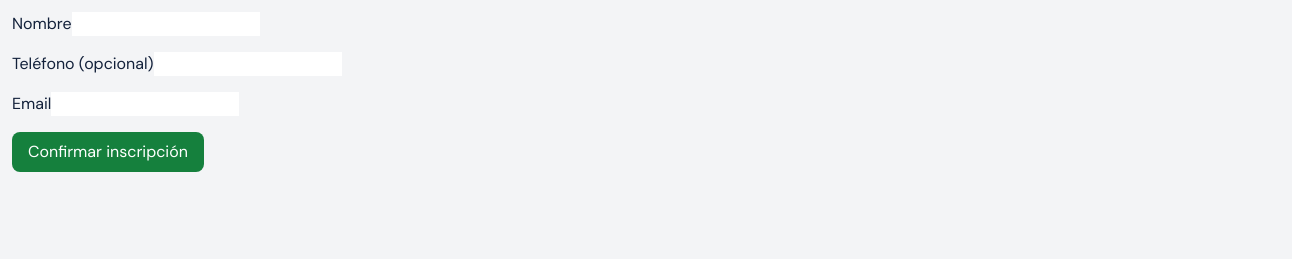
InviteForm › without an active session (guest) › should show the backend error message when registration fails
In the field labelled "Nombre": coordinates (166, 24) [72, 12, 260, 36], type "Juan Pérez"
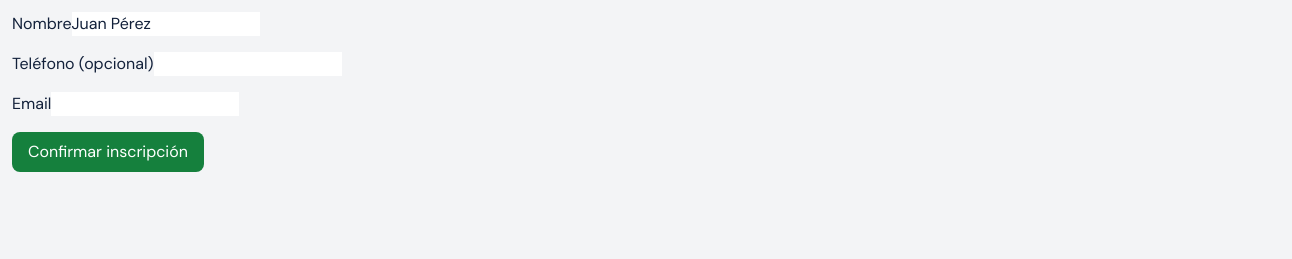
In the field labelled "Email": coordinates (145, 104) [51, 92, 239, 116], type "juan@mail.com"
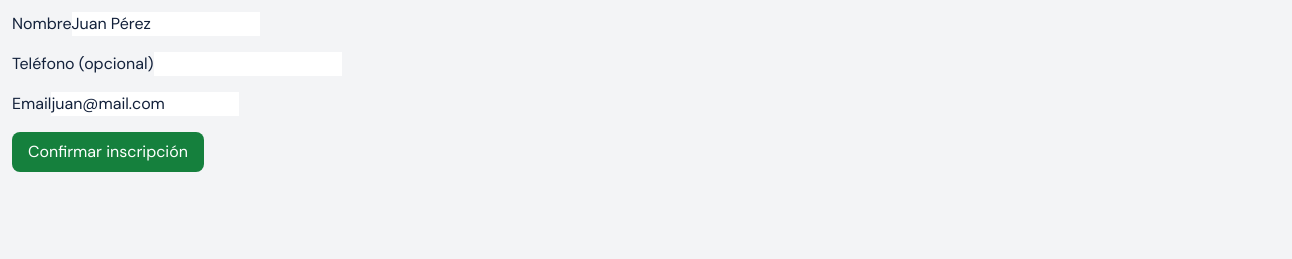
Click the button "Confirmar inscripción": coordinates (108, 152) [12, 132, 204, 172]
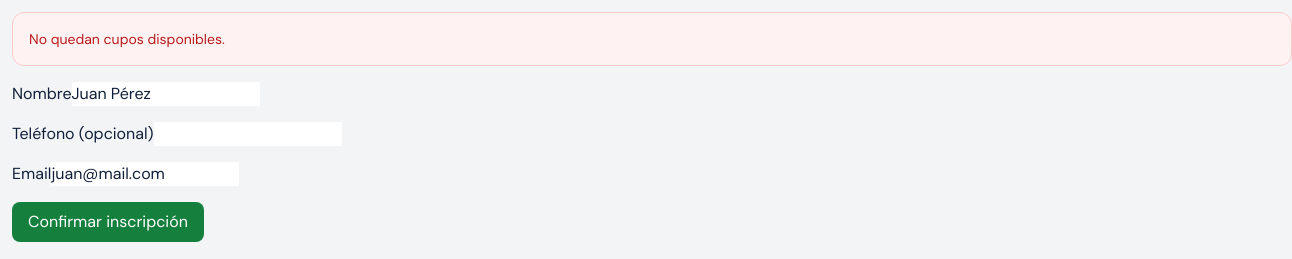
Now the text "No quedan cupos disponibles." is shown, box [12, 12, 1291, 66]
